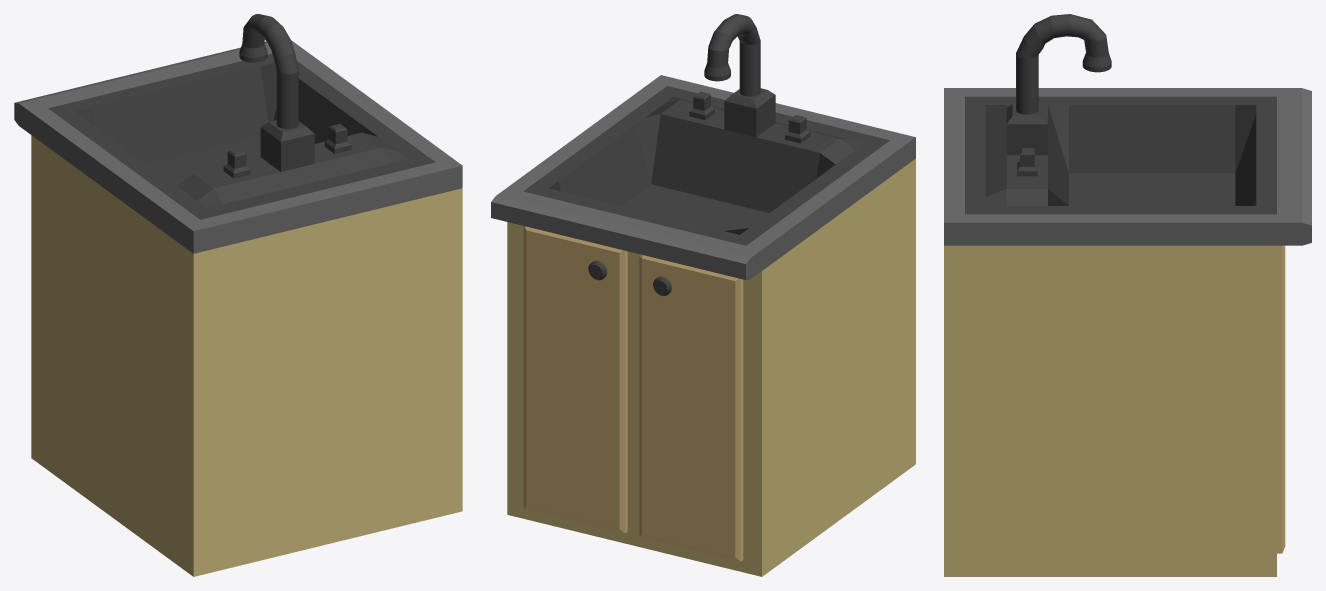
File: sink.fbx
3 renders of one model, left to right at view 1: azimuth 30°, elevation 25°; view 2: azimuth 150°, elevation 25°; view 3: azimuth 270°, elevation 25°, orthographic. The views are drawn at different scales.
Visible parts, largest first — view 1: Cube; view 2: Cube, Cube.001, Cylinder; view 3: Cube, Cube.001.
Part boxes in pixels (left/top/right/bottom): Cube: left=14, top=14, right=462, bottom=576; Cube: left=491, top=14, right=915, bottom=576; Cube.001: left=523, top=226, right=743, bottom=561; Cylinder: left=588, top=260, right=671, bottom=295; Cube: left=944, top=14, right=1311, bottom=576; Cube.001: left=1277, top=245, right=1285, bottom=553.
Bounding box in the file's own units: 1375 × 2355 × 1587.
